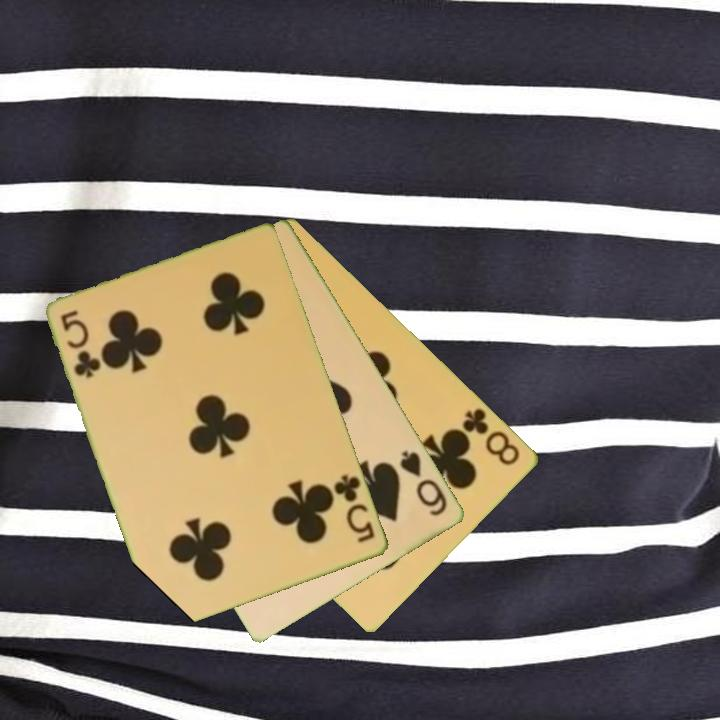5c: (331, 471, 378, 546), (57, 306, 103, 382)
6s: (396, 447, 451, 519)
8c: (459, 404, 523, 469)
